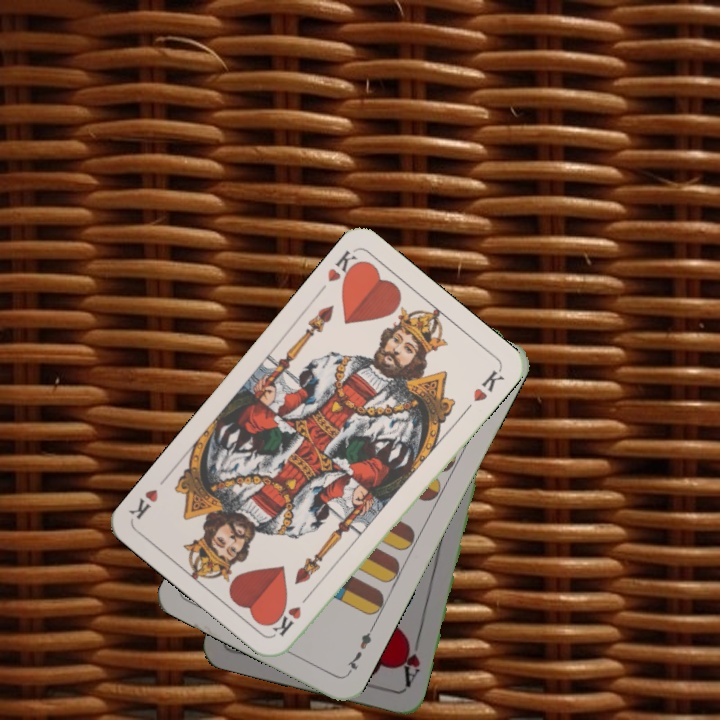E7: (342, 623, 376, 678)
HA: (396, 633, 423, 690)
HK: (268, 588, 314, 639), (323, 246, 365, 289)
